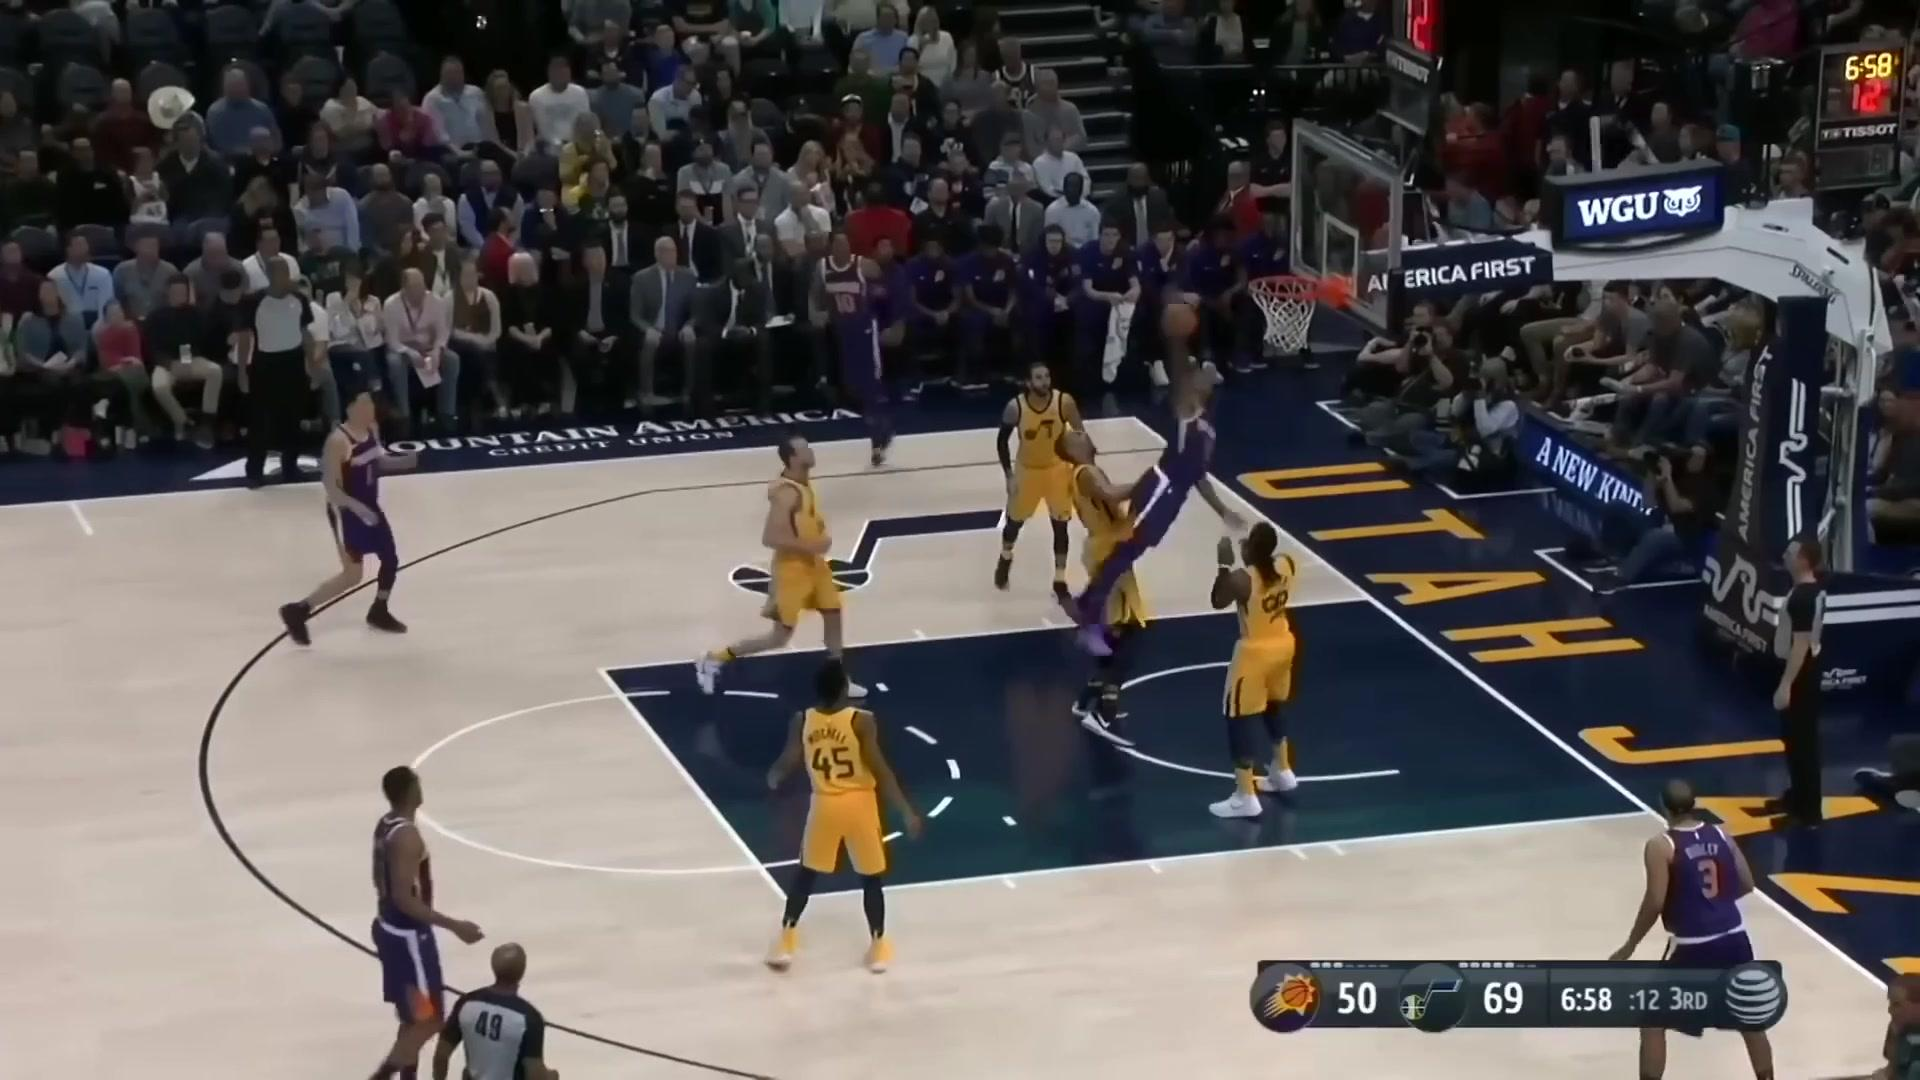foul: (1050, 330, 1221, 709)
